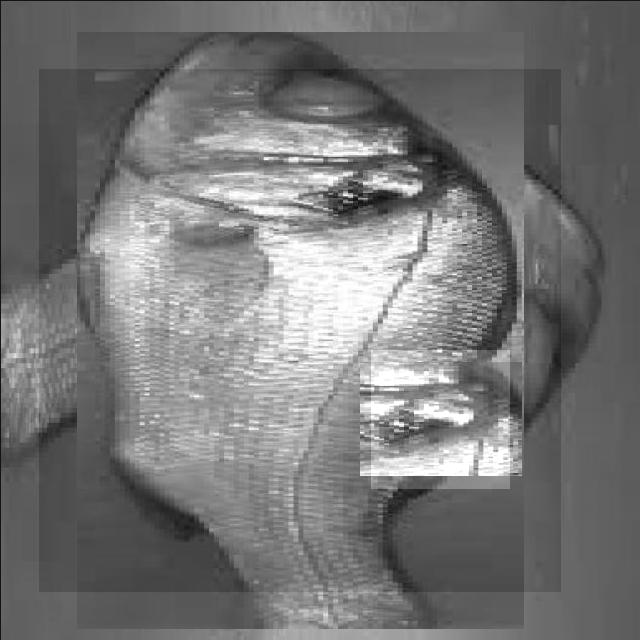EUS Disease: (38, 68, 560, 591), (370, 349, 509, 488)
